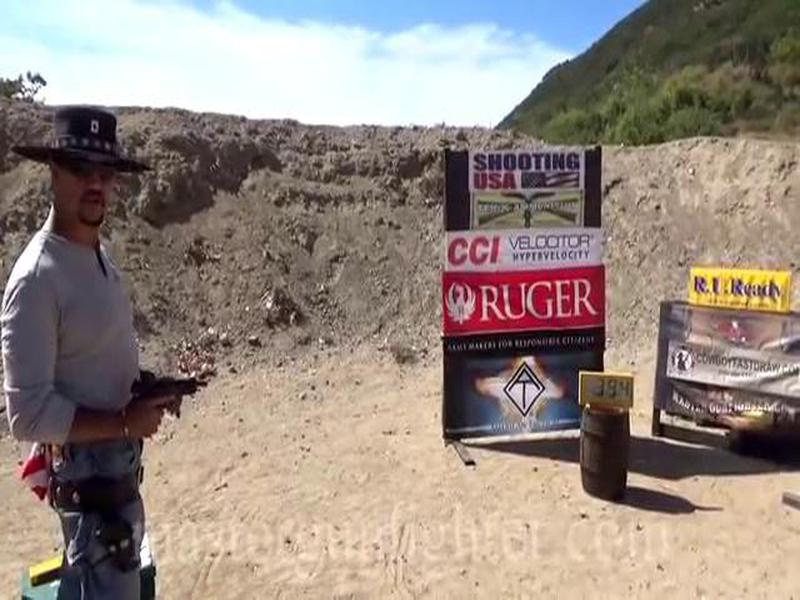Pistola: (117, 367, 212, 435)
